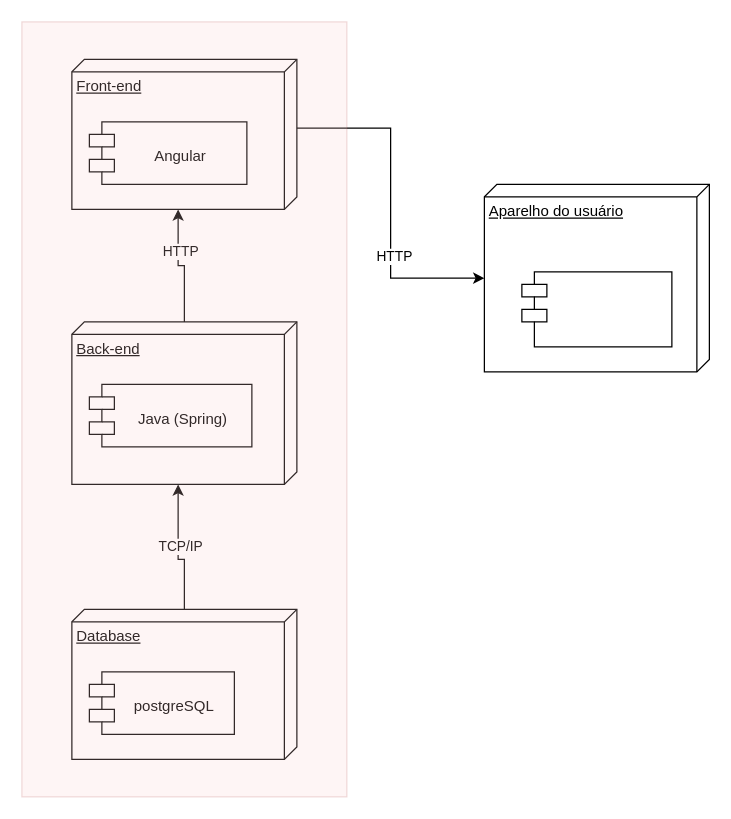
This 731x819 diagram has some shape labels left out. Here are the shapes that lost their labels. From the top down, the centre of each, then its label:
point (596, 309): Navegador Web
point (184, 409): Servidor da aplicação
